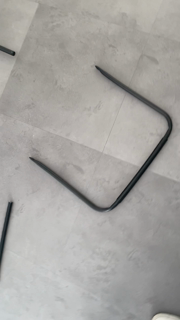C pipe: (26, 61, 176, 216)
